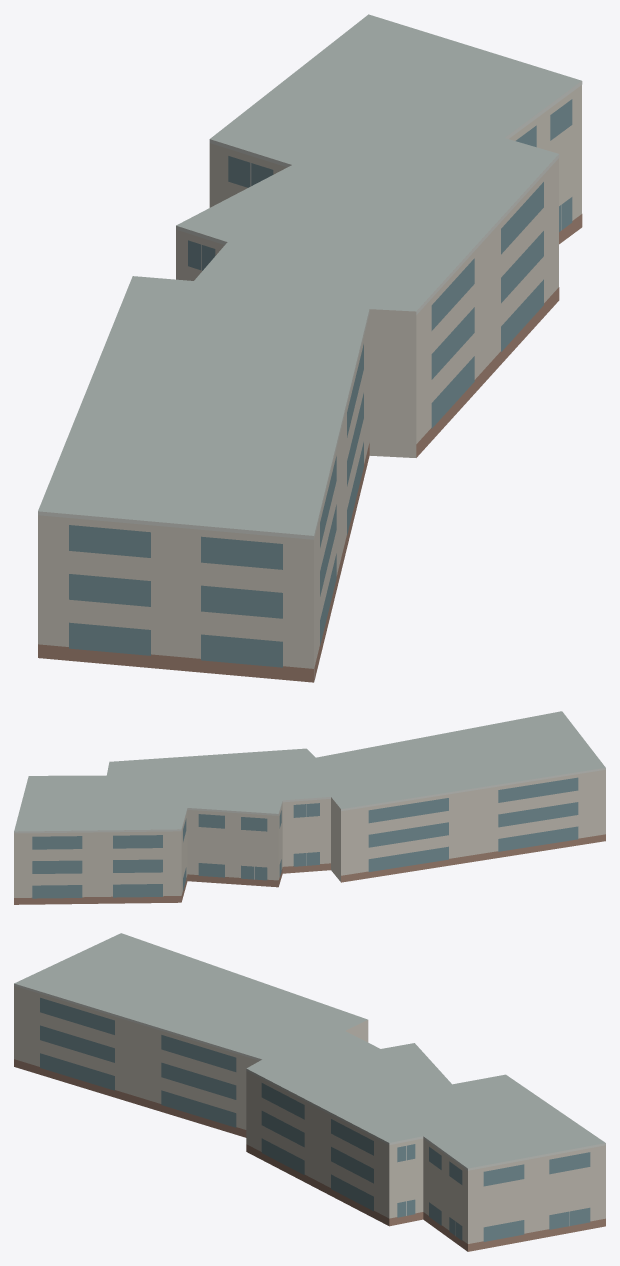
File: survey-upis-32934853.glb
The picture shows the model from 3 angles, top to bottom: view 1: azimuth 30°, elevation 25°; view 2: azimuth 150°, elevation 25°; view 3: azimuth 270°, elevation 25°; orthographic projection. The views are drawn at different scales.
Parts seen in each view (by area): view 1: survey-upis-32934853.tmp; view 2: survey-upis-32934853.tmp; view 3: survey-upis-32934853.tmp.
Boxes of the visible parts, x1,y1,x2,y2 form: survey-upis-32934853.tmp: (38,14,582,682); survey-upis-32934853.tmp: (14,711,605,904); survey-upis-32934853.tmp: (14,933,605,1251).
Bounding box in the file's own units: 55.48 × 9.15 × 58.92.
